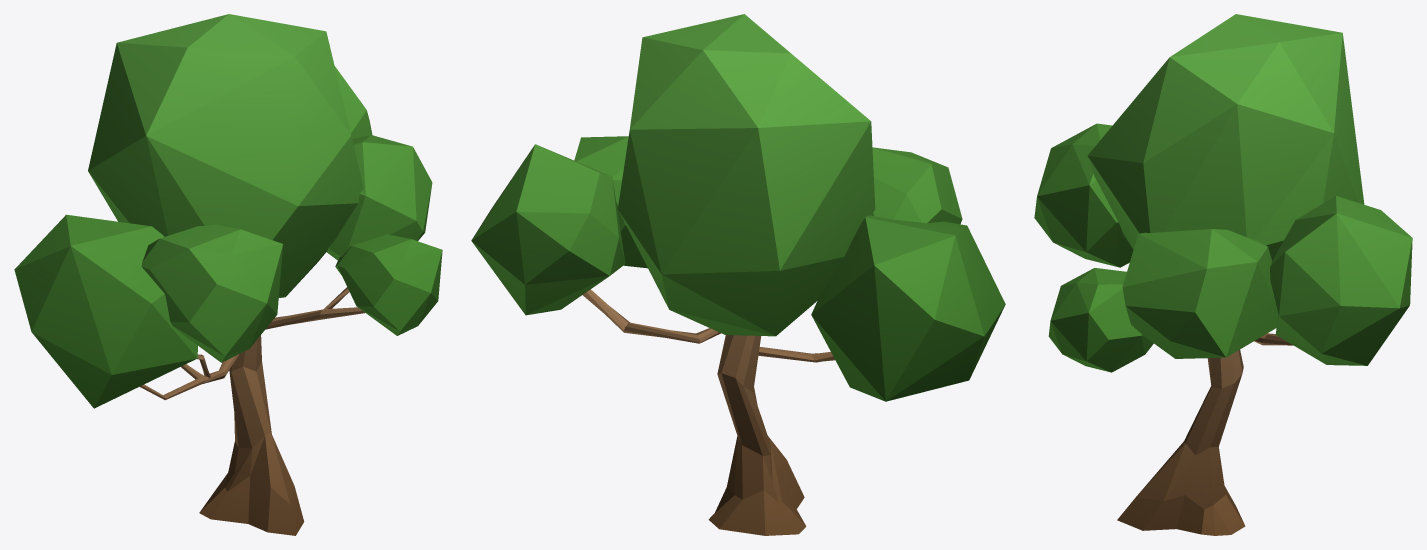
Rendered from tree_oak_green.fbx.
3 views of the same model, side by side, from view 1: azimuth 30°, elevation 25°; view 2: azimuth 150°, elevation 25°; view 3: azimuth 270°, elevation 25° (orthographic). The views are drawn at different scales.
Parts seen in each view (by area): view 1: tree_oak_green; view 2: tree_oak_green; view 3: tree_oak_green.
Part boxes in pixels (x1,y1,x2,y2): tree_oak_green: (14, 14, 442, 535); tree_oak_green: (471, 14, 1005, 535); tree_oak_green: (1034, 14, 1412, 535).
Bounding box in the file's own units: 7.55 × 8.32 × 5.9.
Materials: 1 (1 with a texture image).
